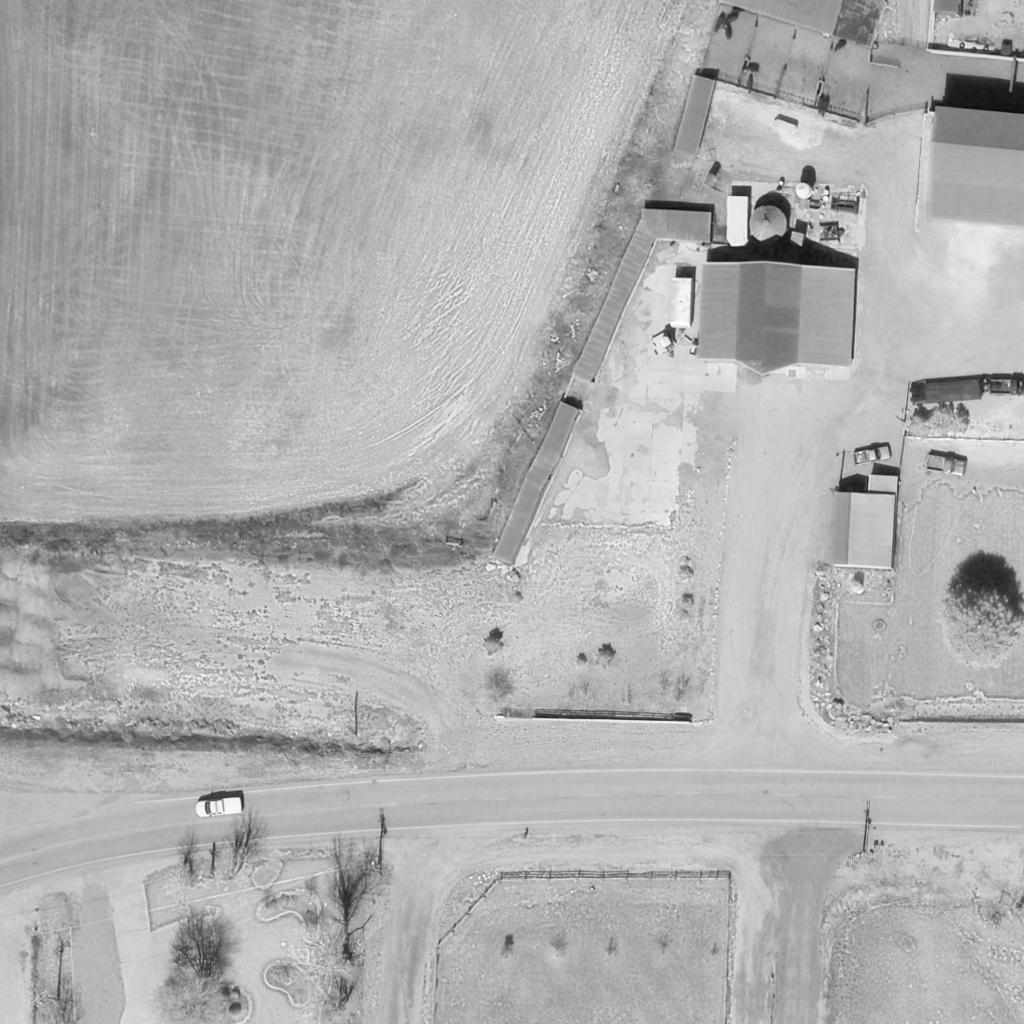vehicle: (669, 276, 695, 328), (727, 197, 751, 245), (194, 798, 244, 818), (851, 444, 891, 466), (926, 453, 966, 475), (986, 378, 1024, 394)
